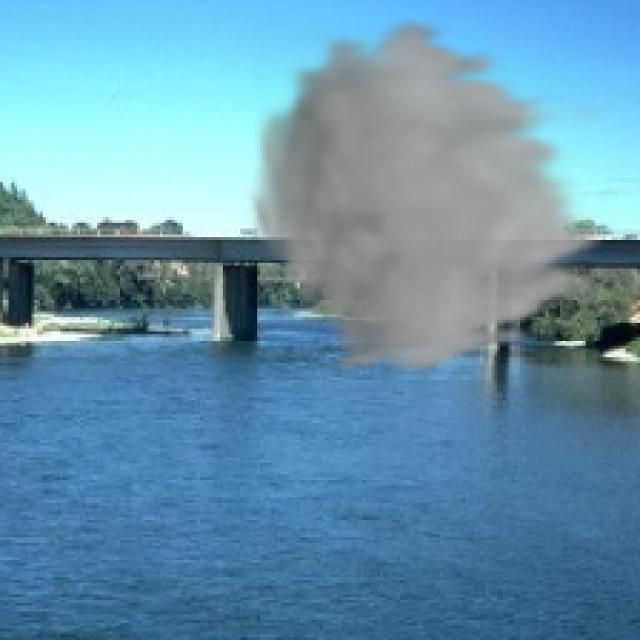smoke: (243, 14, 617, 377)
